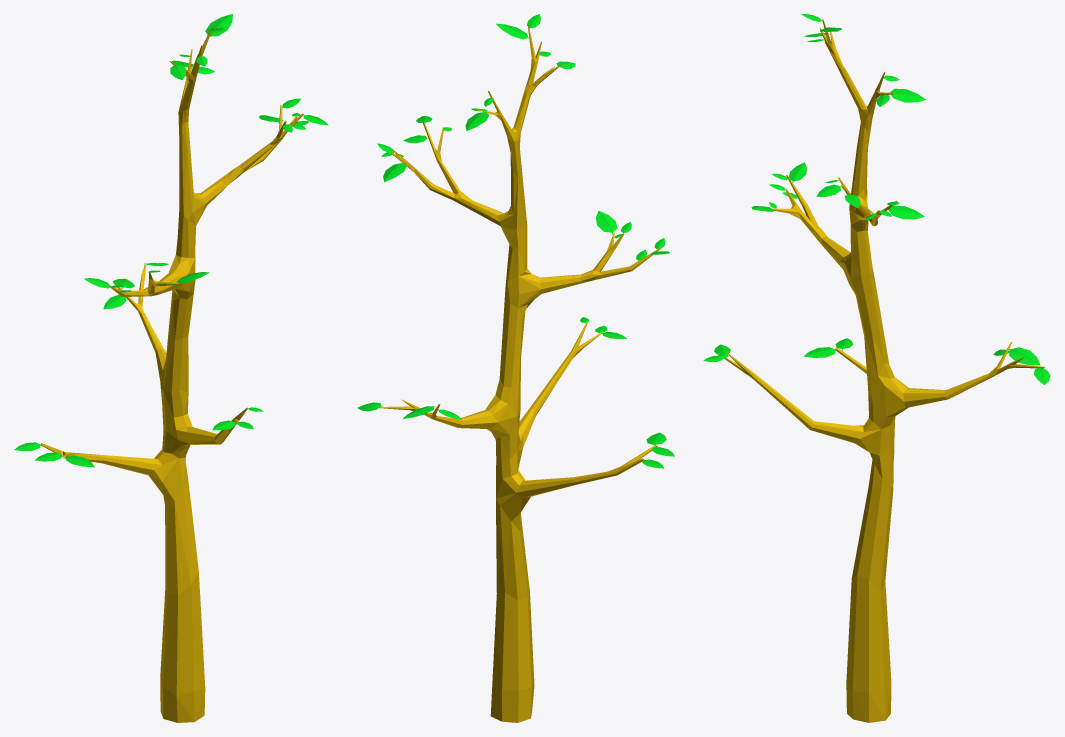
Rendered from TREE_MEDIUM.fbx.
3 renders of one model, left to right at view 1: azimuth 30°, elevation 25°; view 2: azimuth 150°, elevation 25°; view 3: azimuth 270°, elevation 25°, orthographic. The views are drawn at different scales.
Visible parts, largest first — view 1: TREE_MEDIUM, FEUILLE_MEDIUM; view 2: TREE_MEDIUM, FEUILLE_MEDIUM; view 3: TREE_MEDIUM, FEUILLE_MEDIUM.
Part boxes in pixels (x1,y1,x2,y2): TREE_MEDIUM: [41, 27, 303, 722]; FEUILLE_MEDIUM: [14, 14, 328, 467]; TREE_MEDIUM: [379, 26, 661, 722]; FEUILLE_MEDIUM: [357, 14, 674, 468]; TREE_MEDIUM: [724, 19, 1045, 722]; FEUILLE_MEDIUM: [703, 14, 1050, 384].
Bounding box in the file's own units: 486 × 1118 × 501.
